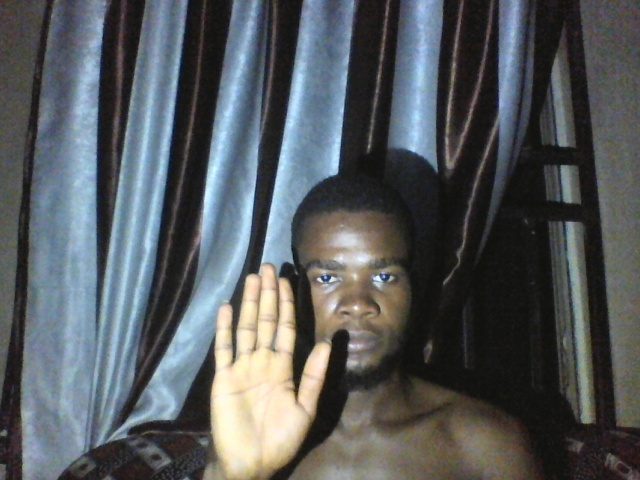hello: (210, 258, 333, 480)
